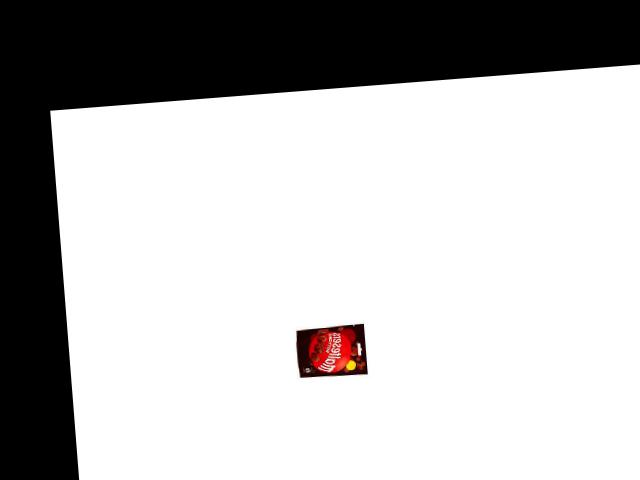chocolate: (293, 322, 369, 379)
